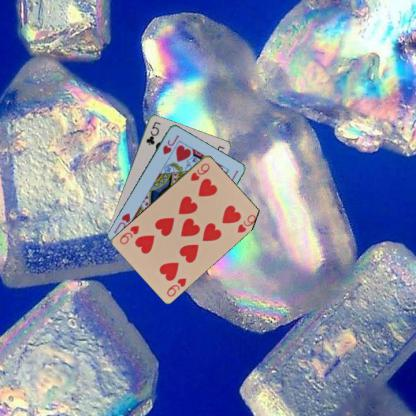5c: (143, 119, 162, 146)
9h: (164, 275, 188, 298), (188, 160, 211, 182)
Jh: (160, 132, 180, 155)
